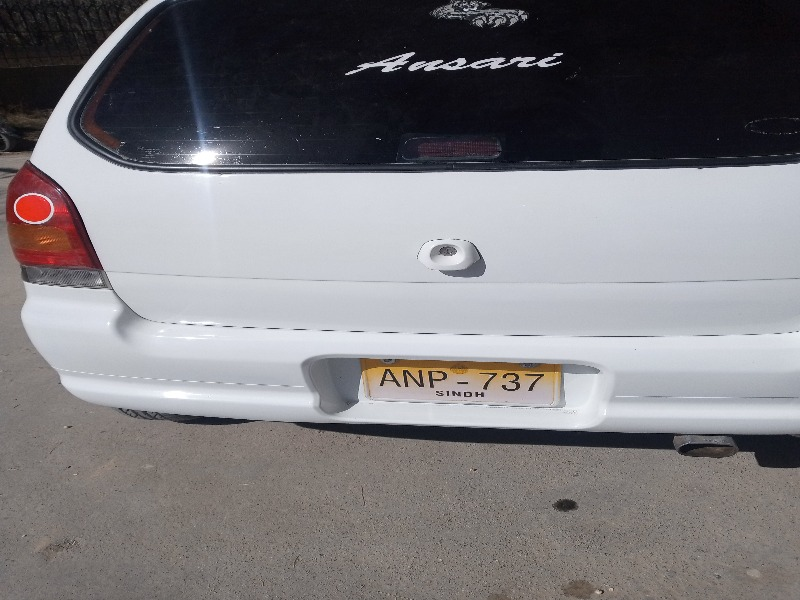License Plate: (357, 354, 568, 414)
